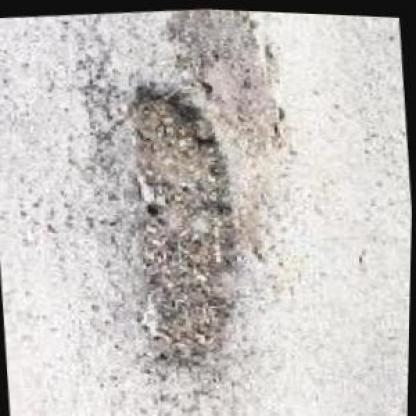pothole: (116, 72, 260, 375)
